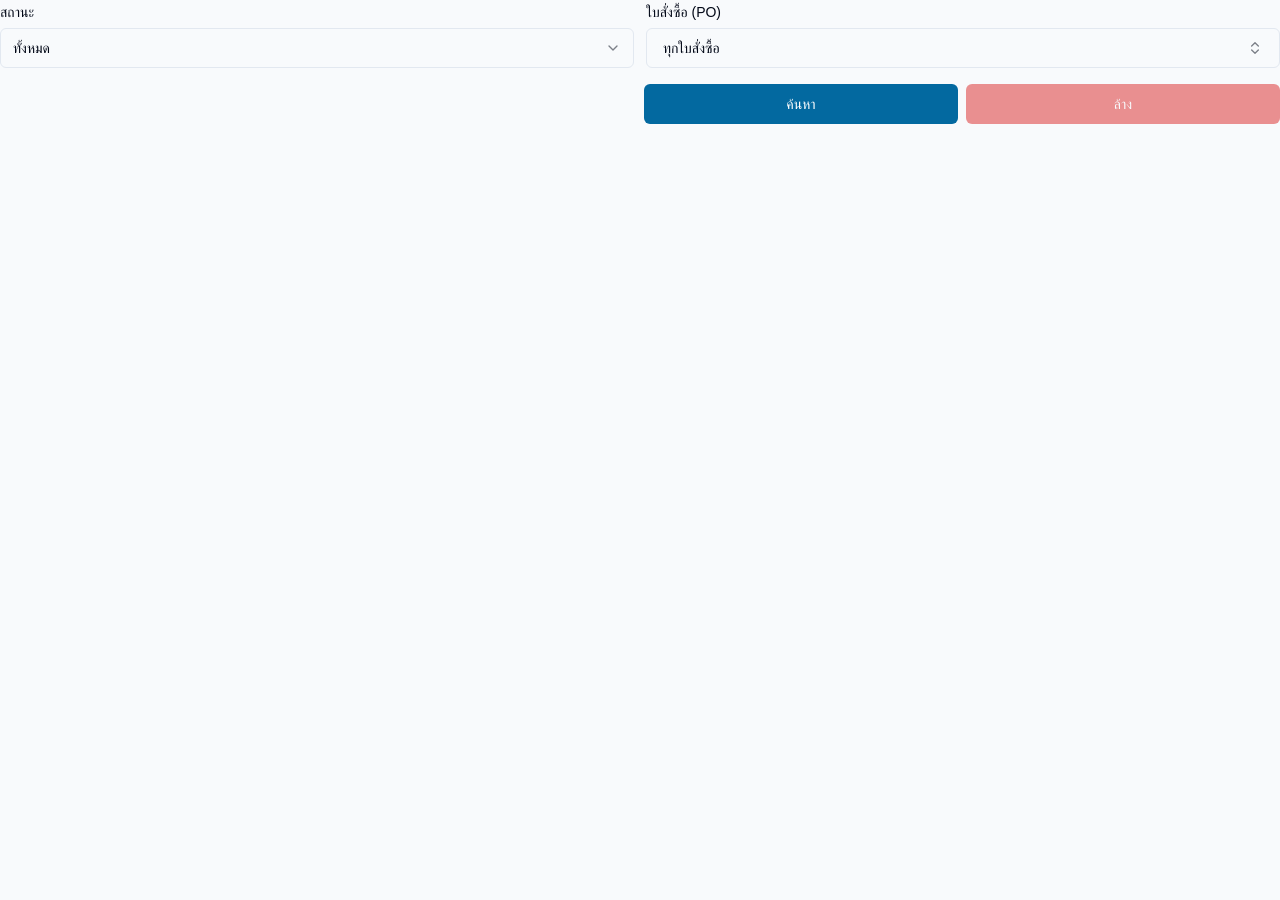
Scenario: GRNListFilterForm › choosing a PO then ล้าง resets the combobox back to ทุกใบสั่งซื้อ
Click the dropdown named "ใบสั่งซื้อ (PO)".
click(691, 48)  # box [646,28,1279,68]
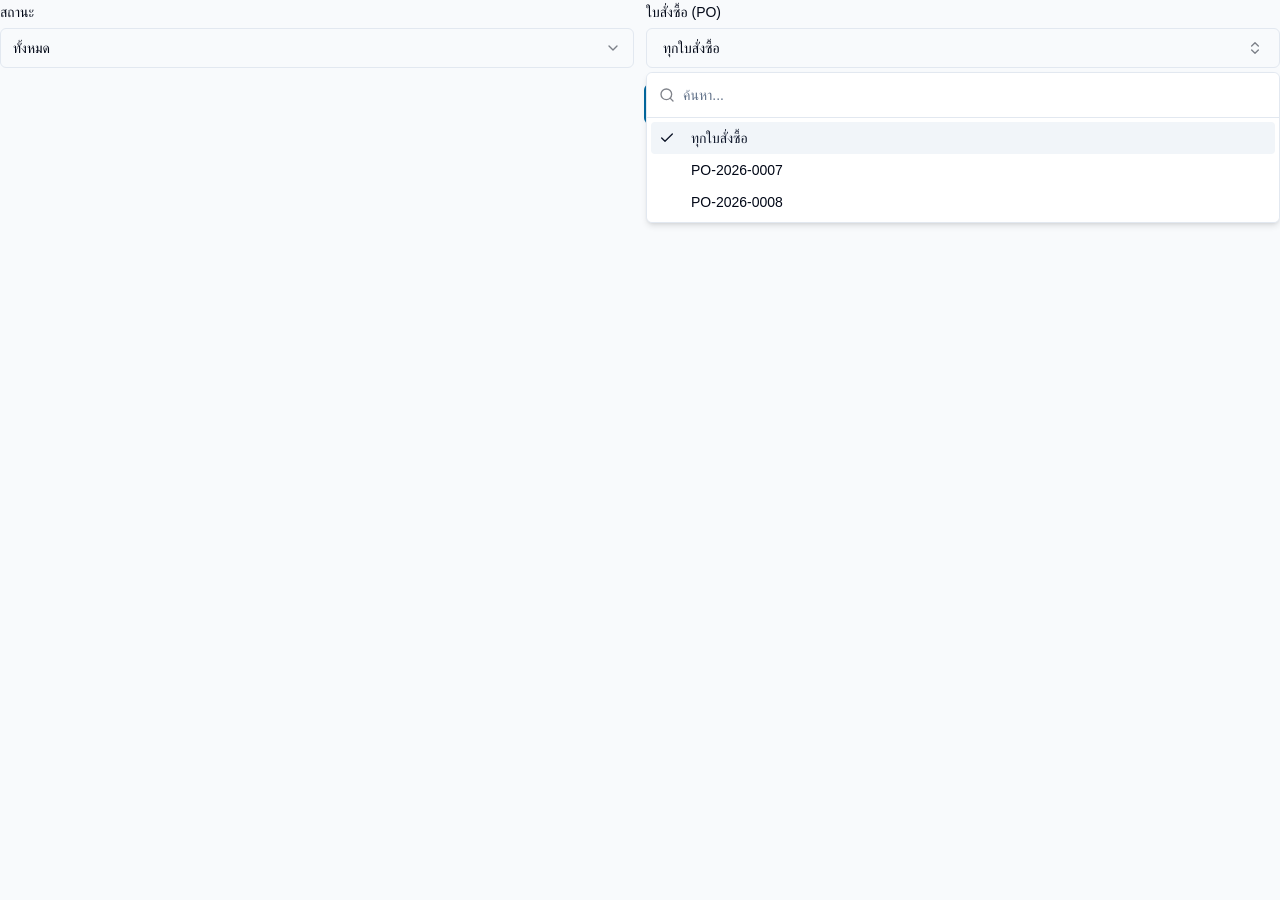
Click the option "PO-2026-0008".
click(737, 202)  # box [691,194,783,210]
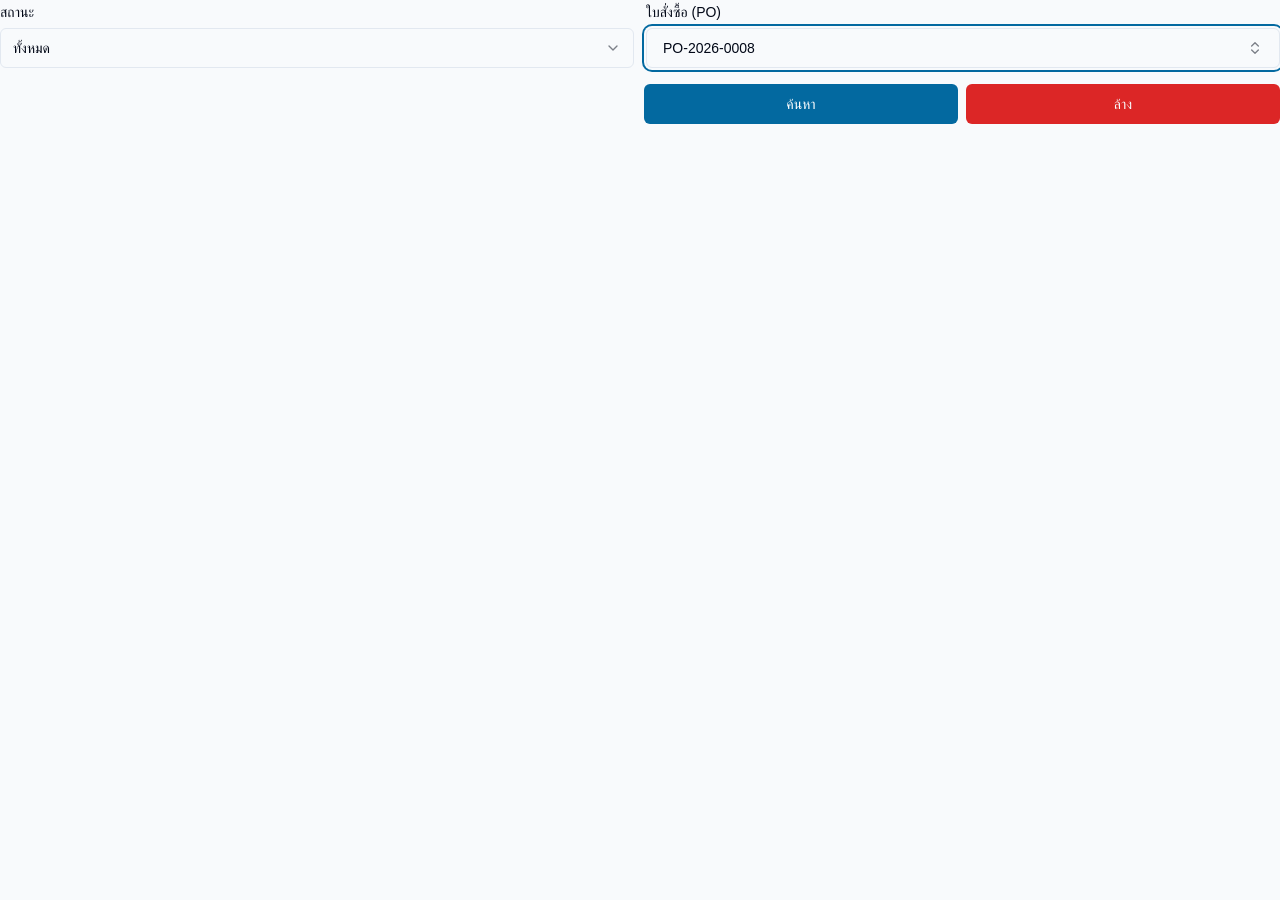
Expected: the dropdown named "ใบสั่งซื้อ (PO)" reads "PO-2026-0008", [646,28,1279,68]
Click the button "ล้าง".
click(1123, 104)  # box [966,84,1279,124]
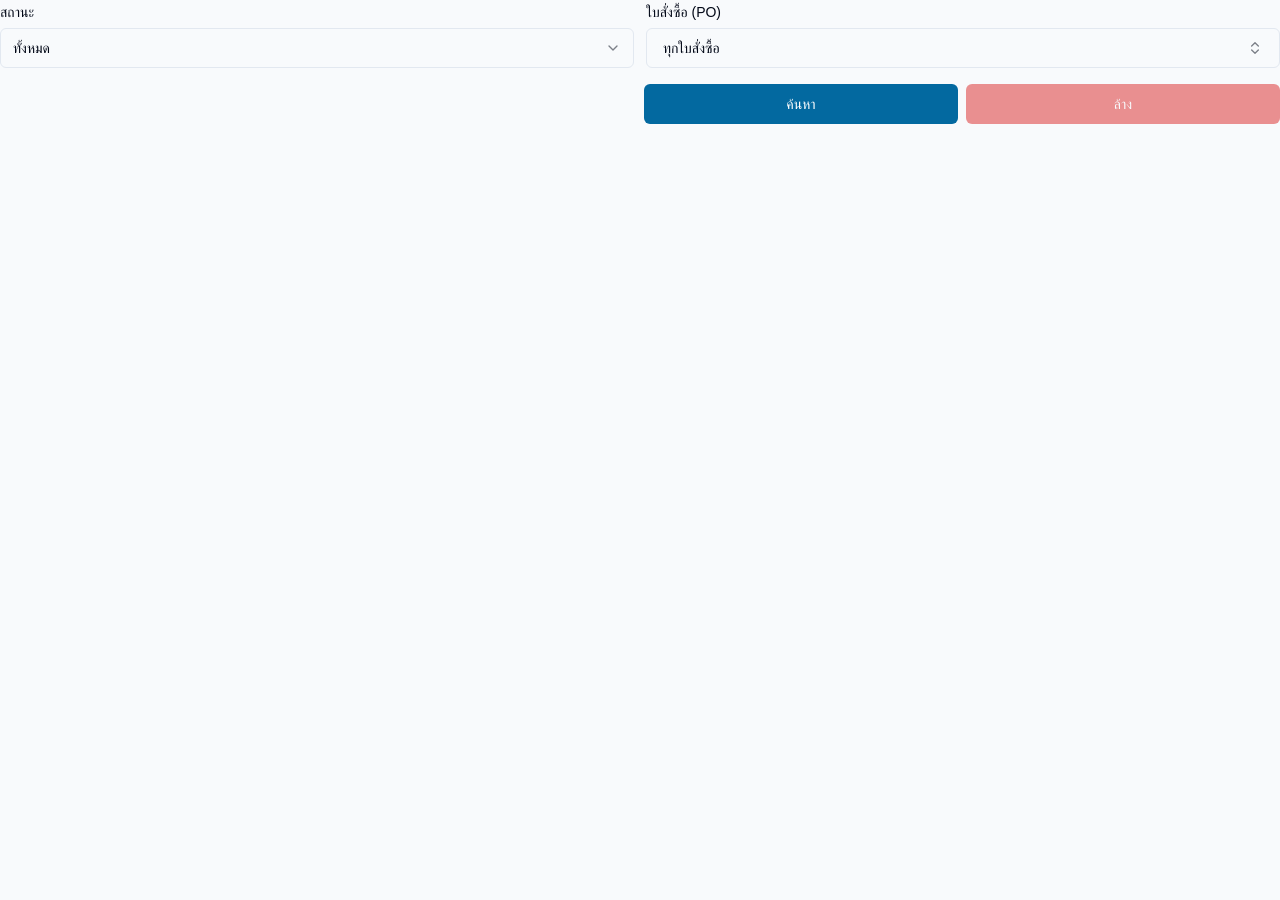
Expected: the dropdown named "ใบสั่งซื้อ (PO)" reads "ทุกใบสั่งซื้อ", [646,28,1279,68]
Expected: the button "ล้าง" is disabled, [966,84,1279,124]
